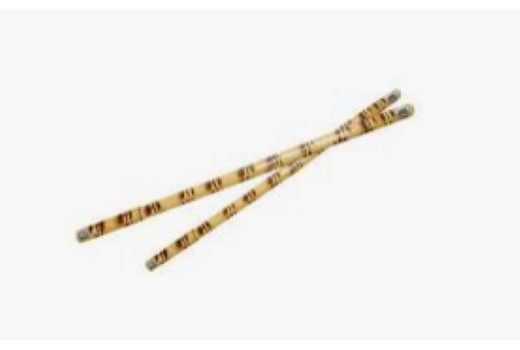baston_e: (98, 106, 389, 244), (163, 94, 384, 268)
baston_v: (65, 221, 97, 247), (385, 79, 408, 111), (396, 99, 422, 125), (133, 253, 161, 275)
